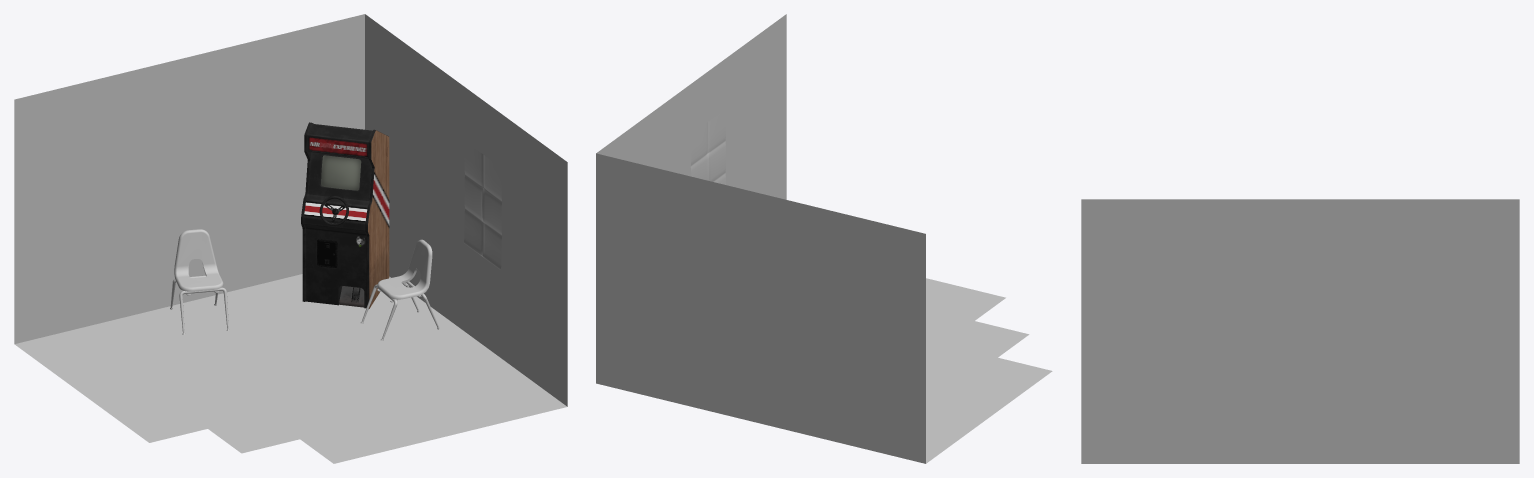
The model's file is Arcade.fbx.
The picture shows the model from 3 angles, left to right: view 1: azimuth 30°, elevation 25°; view 2: azimuth 150°, elevation 25°; view 3: azimuth 270°, elevation 25°; orthographic projection. The views are drawn at different scales.
Parts seen in each view (by area): view 1: Arch, Cabinet, Chair, poster; view 2: Arch, poster; view 3: Arch.
Part boxes in pixels (<box>): Arch: <box>14,14,567,463</box>; Cabinet: <box>301,122,389,308</box>; Chair: <box>170,229,439,340</box>; poster: <box>464,141,501,269</box>; Arch: <box>596,14,1052,463</box>; poster: <box>690,109,725,184</box>; Arch: <box>1081,199,1519,463</box>.
Size of the model in its own units: 375 by 375 by 250.
